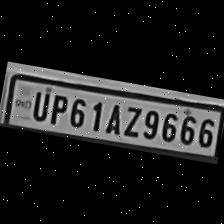1: (84, 96, 106, 130)
6: (64, 92, 90, 128), (156, 106, 180, 142), (194, 112, 216, 147), (176, 110, 198, 144)
9: (137, 104, 161, 140)
A: (100, 98, 125, 134)
P: (45, 88, 69, 125)
U: (26, 84, 52, 122)
Z: (119, 99, 144, 138)
